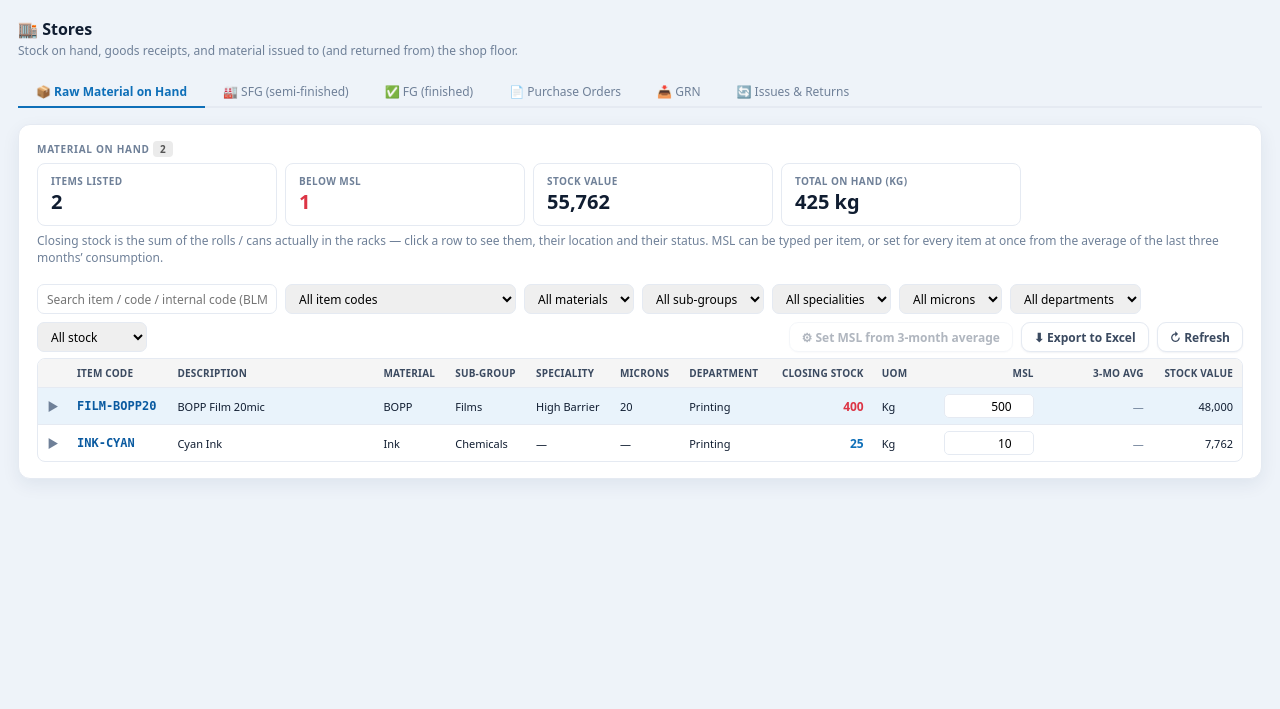
Stores — purchase orders, GRN, issues and returns › drops the PO when a different supplier is chosen
Click the text "📥 GRN" at (679, 92), box [657,83,700,100]
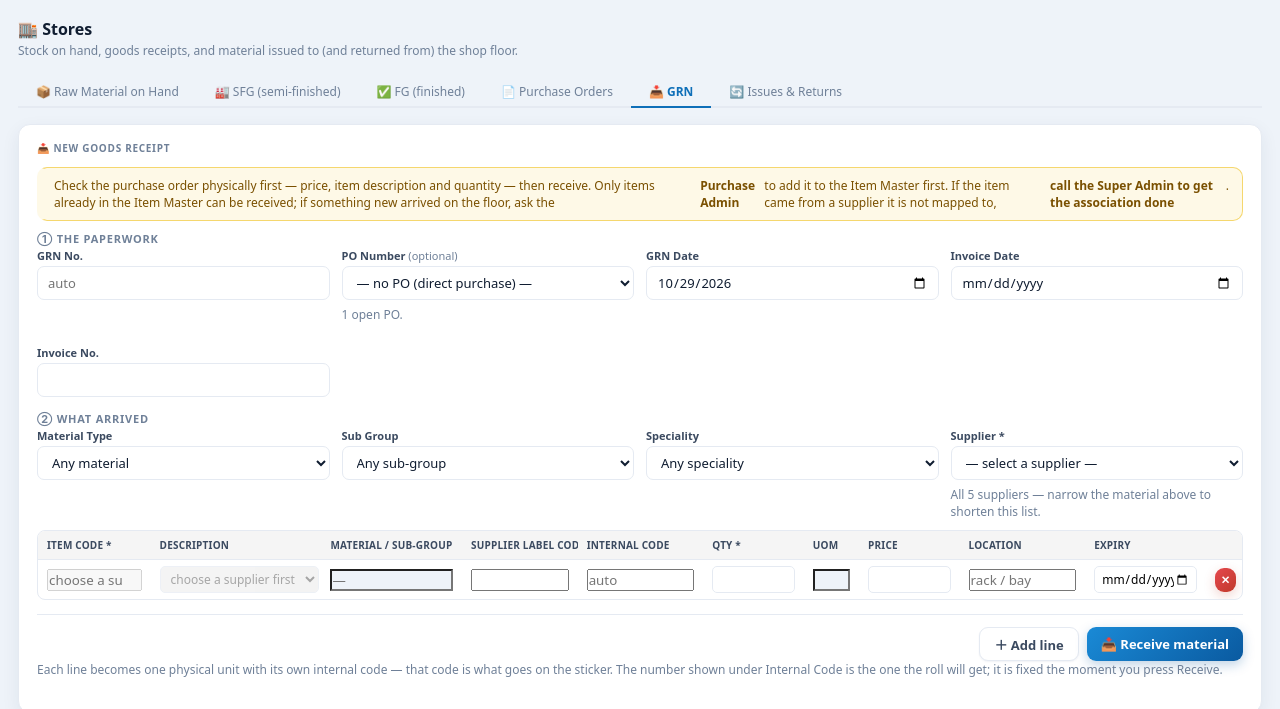
Check: the text "📥 New goods receipt" is shown, box [37,141,170,155]
Select "BLM/PUR/2026-2027/7 · Cosmos Films" in the dropdown named "Purchase order" at (488, 283), box [342,266,634,300]
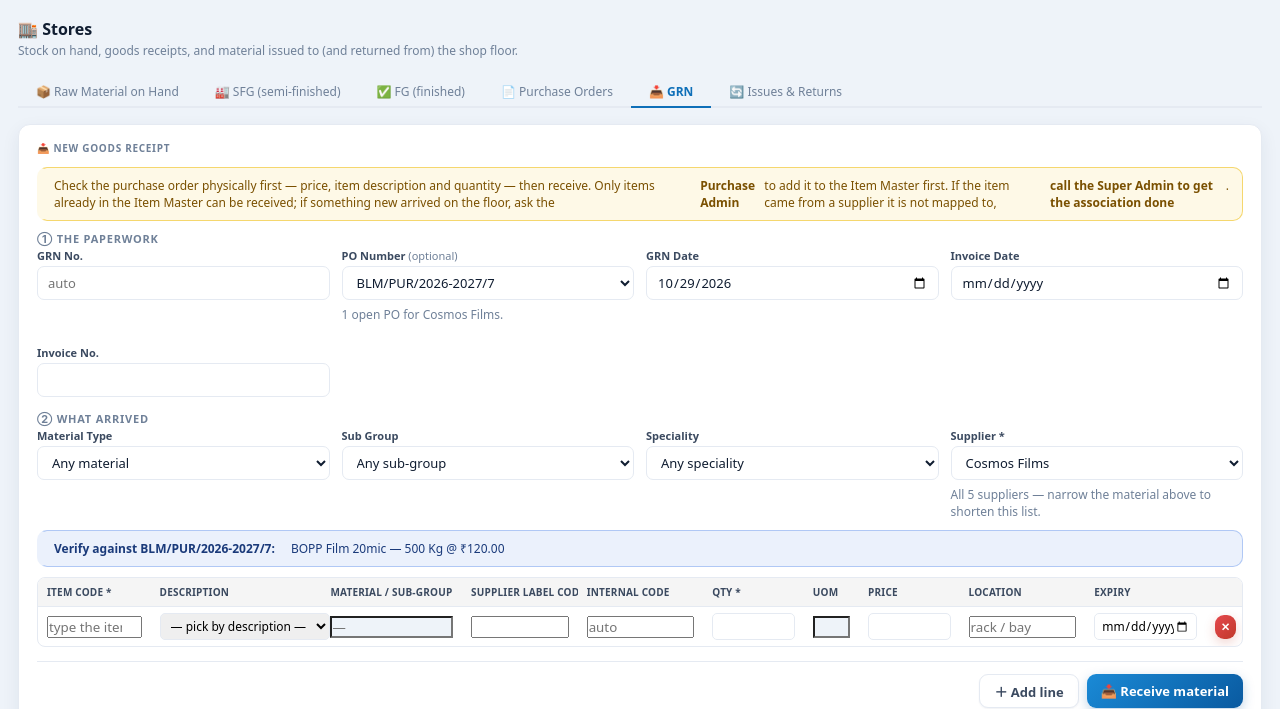
Select "Sun Chemical" in the dropdown named "Supplier" at (1097, 463), box [950,446,1243,480]
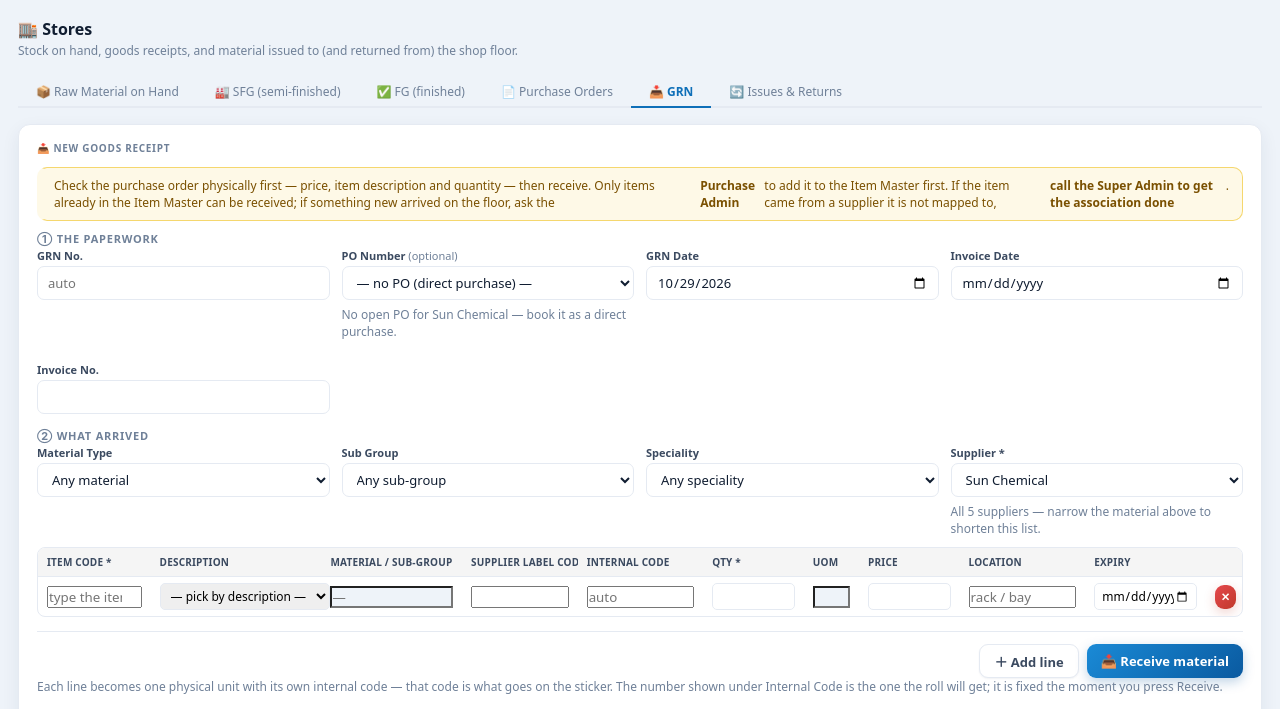
Check: the text "No open PO for Sun Chemical — book it as a direct purchase." is shown, box [342,306,634,340]
